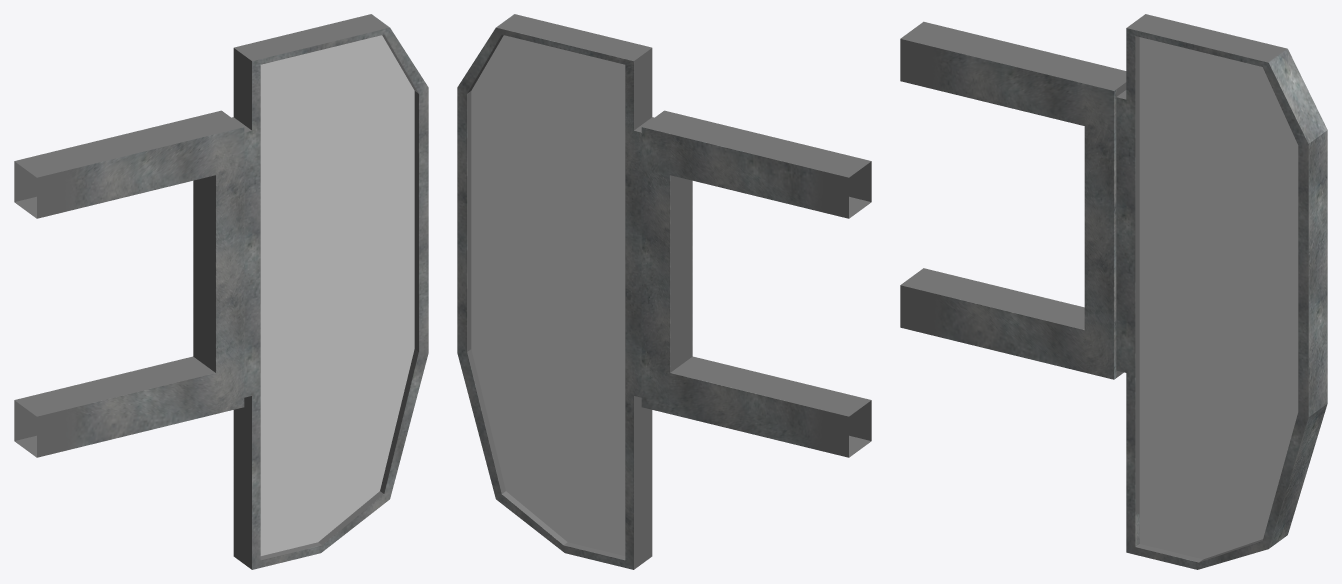
The model's file is AdSign.fbx.
3 renders of one model, left to right at view 1: azimuth 30°, elevation 25°; view 2: azimuth 150°, elevation 25°; view 3: azimuth 330°, elevation 25°, orthographic. The views are drawn at different scales.
Visible parts, largest first — view 1: Cube; view 2: Cube; view 3: Cube.
Boxes of the visible parts, bbox=[...] form: Cube: bbox=[14, 14, 428, 569]; Cube: bbox=[457, 14, 871, 569]; Cube: bbox=[900, 14, 1327, 569].
Bounding box in the file's own units: 36.09 × 44.55 × 3.6.
Materials: 2 (1 with a texture image).
